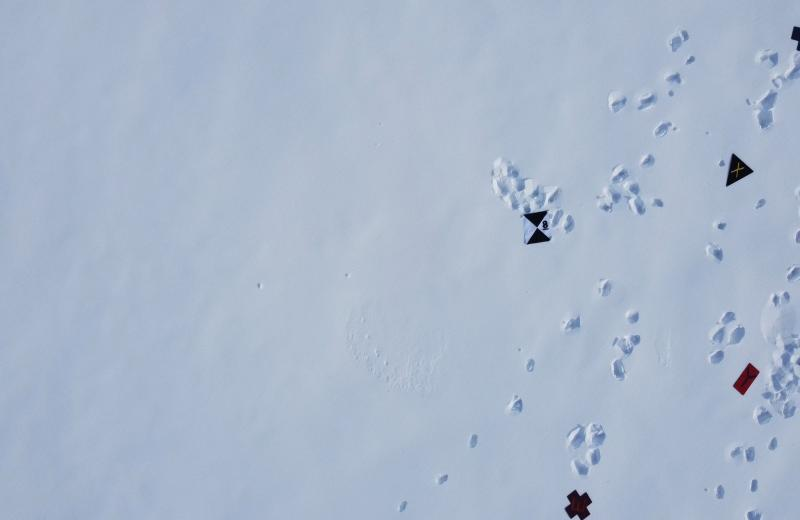Cross: (566, 487, 594, 520), (792, 15, 800, 53)
Rectangle: (732, 362, 761, 396)
Triangle: (725, 150, 754, 186)
